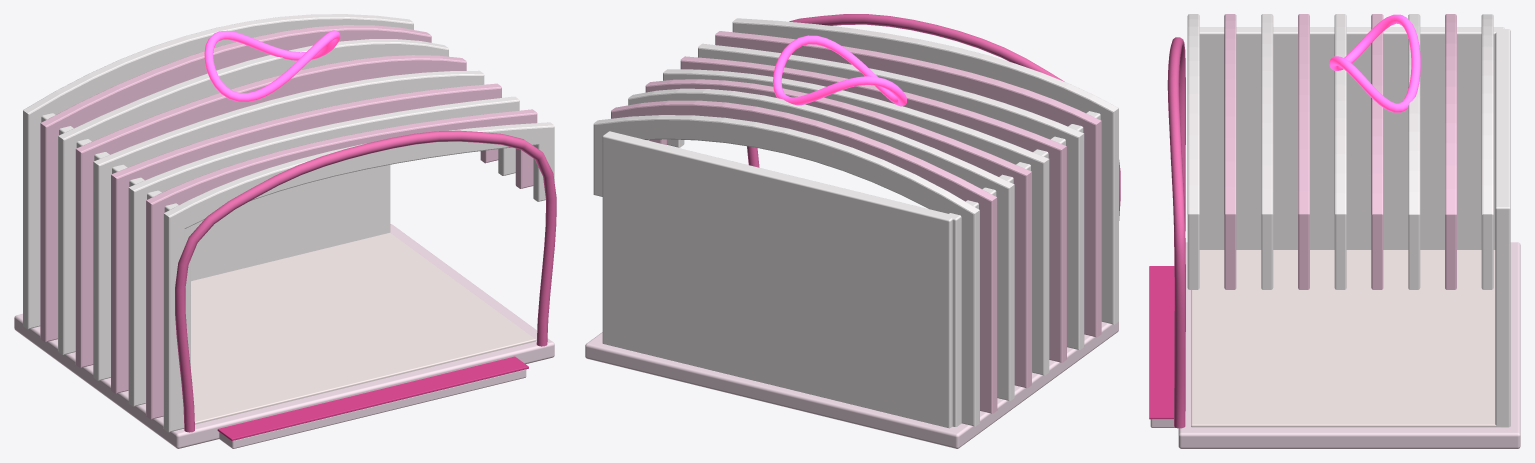
The model's file is booth-design.glb.
The picture shows the model from 3 angles, left to right: view 1: azimuth 30°, elevation 25°; view 2: azimuth 150°, elevation 25°; view 3: azimuth 270°, elevation 25°; orthographic projection. The views are drawn at different scales.
Visible parts, largest first — view 1: BoothShellDesign; view 2: BoothShellDesign; view 3: BoothShellDesign.
Part boxes in pixels (x1=…): BoothShellDesign: x1=14, y1=14, x2=556, y2=448; BoothShellDesign: x1=585, y1=14, x2=1120, y2=448; BoothShellDesign: x1=1149, y1=14, x2=1520, y2=448.
Size of the model in its own units: 7.35 by 5.48 by 5.86.
